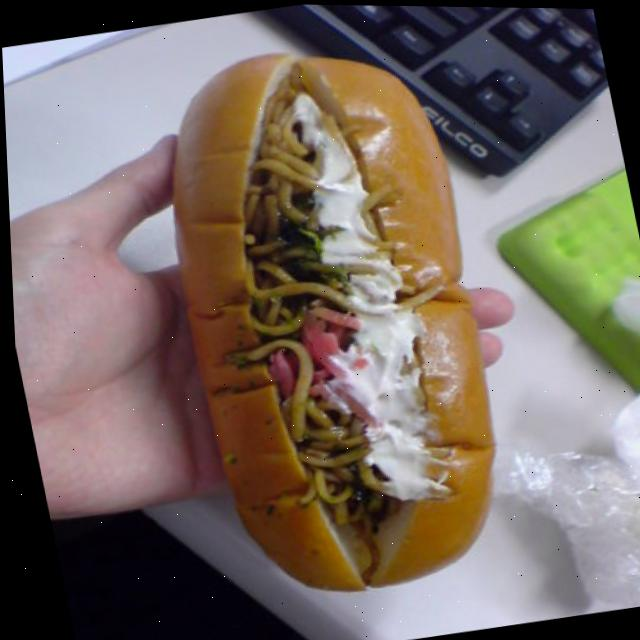三明治: (125, 1, 519, 628)
